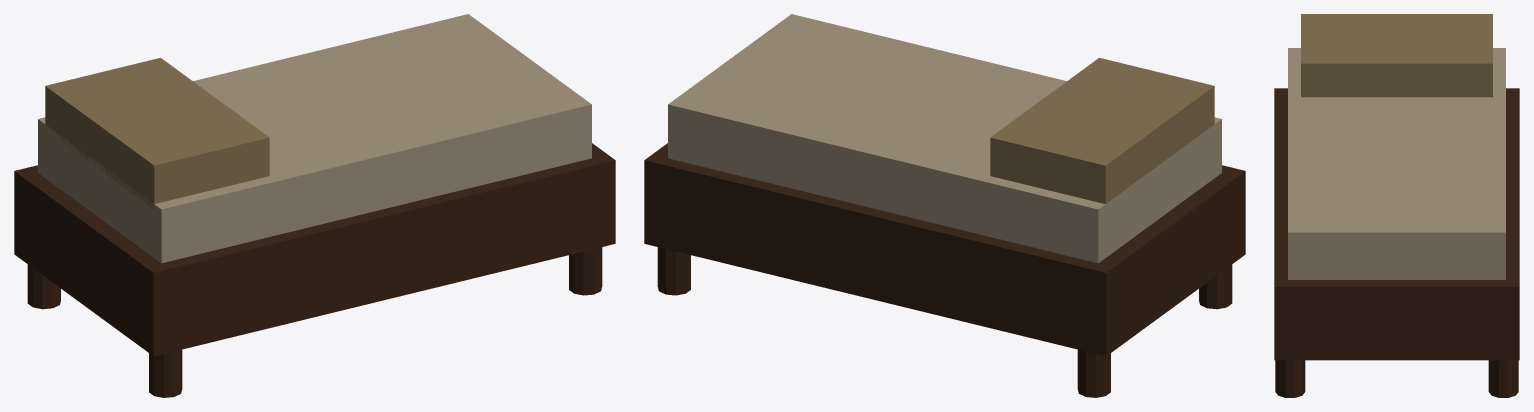
The model's file is GalakasMidCity_INT_Bed_Simple_01.obj.
3 views of the same model, side by side, from view 1: azimuth 30°, elevation 25°; view 2: azimuth 150°, elevation 25°; view 3: azimuth 270°, elevation 25° (orthographic). The views are drawn at different scales.
Parts seen in each view (by area): view 1: mattress, bed_frame, pillow, bedpost_-1_0_0_5, bedpost_1_0_0_5, bedpost_-1_0_-0_5; view 2: mattress, bed_frame, pillow, bedpost_-1_0_-0_5, bedpost_1_0_-0_5, bedpost_-1_0_0_5; view 3: mattress, bed_frame, pillow, bedpost_1_0_-0_5, bedpost_1_0_0_5.
Boxes of the visible parts, x1,y1,x2,y2 form: mattress: [38, 14, 591, 263]; bed_frame: [14, 143, 615, 356]; pillow: [45, 57, 269, 209]; bedpost_-1_0_0_5: [149, 349, 182, 397]; bedpost_1_0_0_5: [569, 247, 602, 295]; bedpost_-1_0_-0_5: [27, 264, 60, 309]; mattress: [668, 14, 1221, 263]; bed_frame: [644, 143, 1245, 356]; pillow: [990, 57, 1214, 203]; bedpost_-1_0_-0_5: [1077, 349, 1110, 397]; bedpost_1_0_-0_5: [657, 247, 690, 295]; bedpost_-1_0_0_5: [1199, 264, 1232, 309]; mattress: [1288, 48, 1505, 279]; bed_frame: [1274, 88, 1519, 360]; pillow: [1301, 14, 1492, 97]; bedpost_1_0_-0_5: [1488, 360, 1518, 397]; bedpost_1_0_0_5: [1275, 360, 1305, 397].
Bounding box in the file's own units: 2.2 × 1.01 × 1.15.
